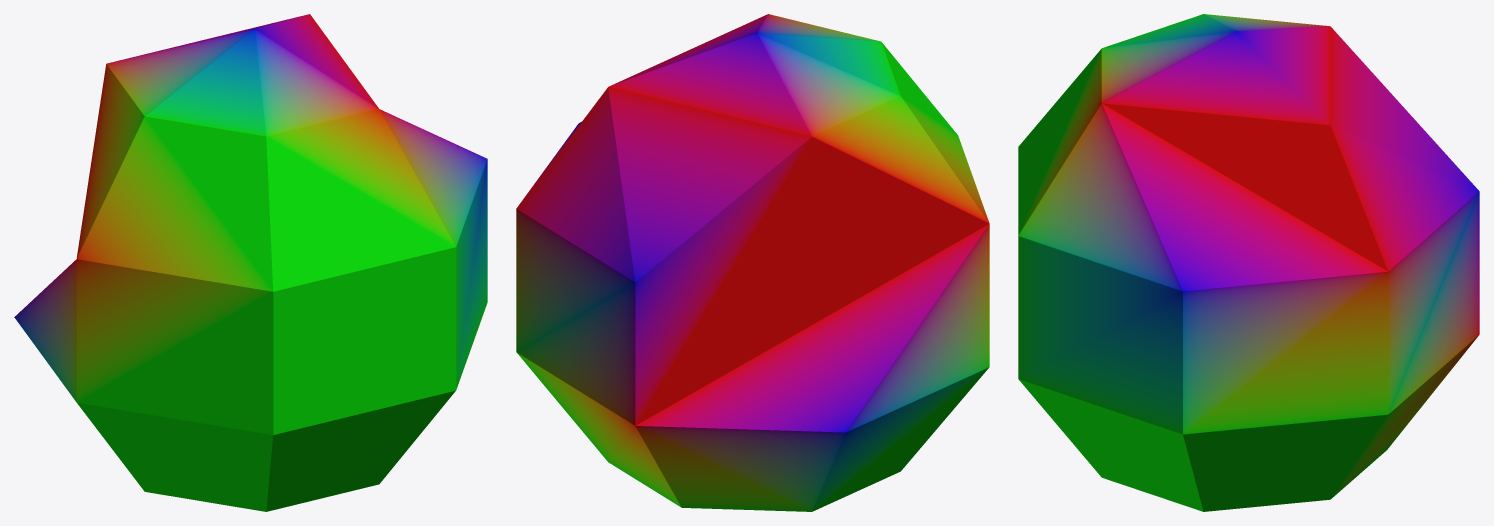
File: after_retriangulation_type_colored_2.obj
The picture shows the model from 3 angles, left to right: view 1: azimuth 30°, elevation 25°; view 2: azimuth 150°, elevation 25°; view 3: azimuth 270°, elevation 25°; orthographic projection.
Bounding box in the file's own units: 1.85 × 2 × 1.81.
